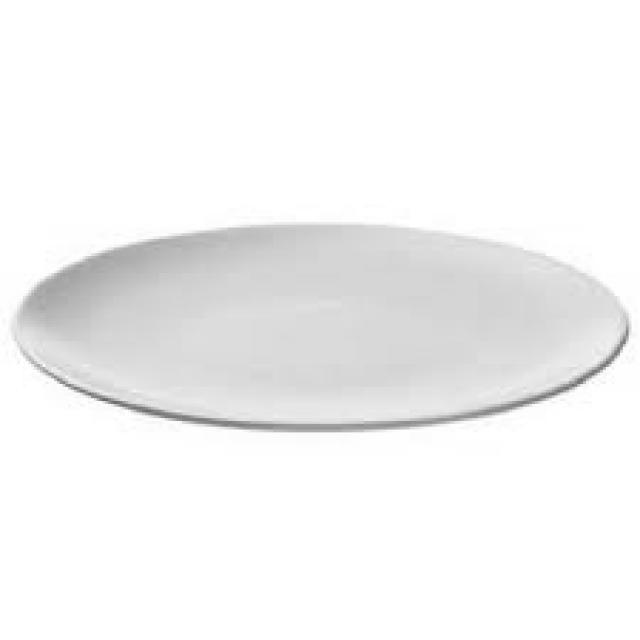dish: (13, 198, 636, 449)
